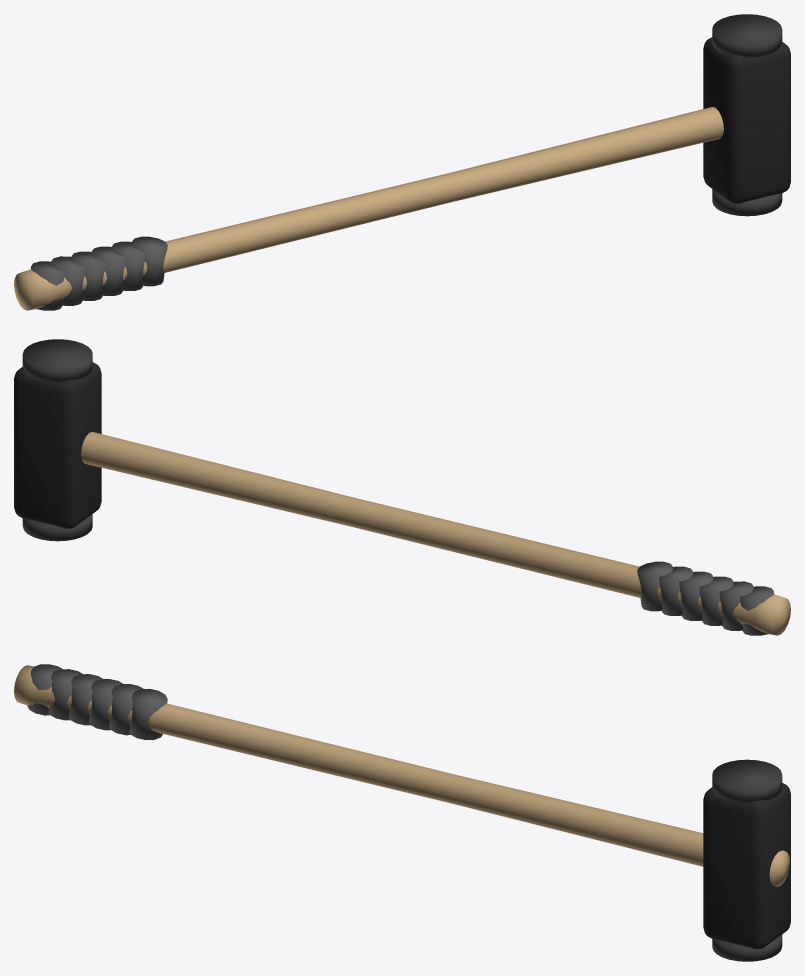
Rendered from SM_Sledgehammer.glb.
3 views of the same model, one above another, from view 1: azimuth 30°, elevation 25°; view 2: azimuth 150°, elevation 25°; view 3: azimuth 330°, elevation 25° (orthographic).
Parts seen in each view (by area): view 1: SM_Sledgehammer; view 2: SM_Sledgehammer; view 3: SM_Sledgehammer.
Boxes of the visible parts, x1,y1,x2,y2 form: SM_Sledgehammer: (14, 14, 790, 310); SM_Sledgehammer: (14, 339, 790, 635); SM_Sledgehammer: (14, 664, 790, 961).
Size of the model in its own units: 0.91 by 0.196 by 0.072.
